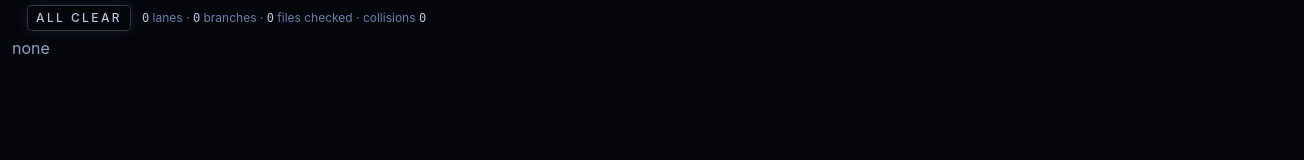
Test: AttentionStrip (wired) › clicking a chip writes into the one shared selection context
Press 3
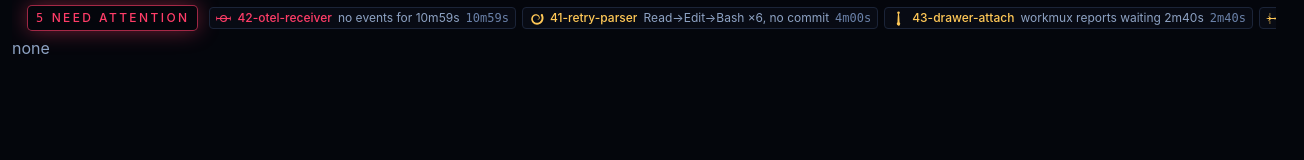
Expected: the text with test id "selected" reads "none", [12, 38, 50, 58]
Expected: the button "42-otel-receiver no events for 10m59s 10m59s" is shown
Click the button "42-otel-receiver no events for 10m59s 10m59s": (363, 18) [210, 7, 516, 29]
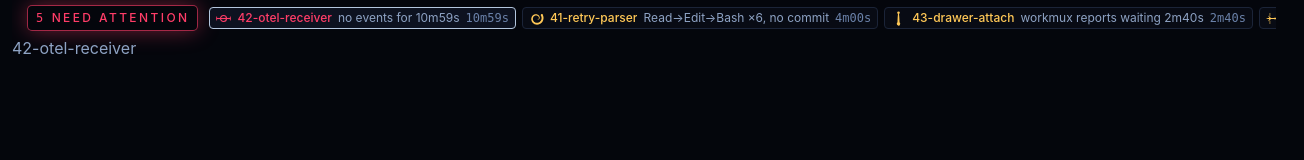
Expected: the text with test id "selected" reads "42-otel-receiver", [12, 38, 136, 58]
